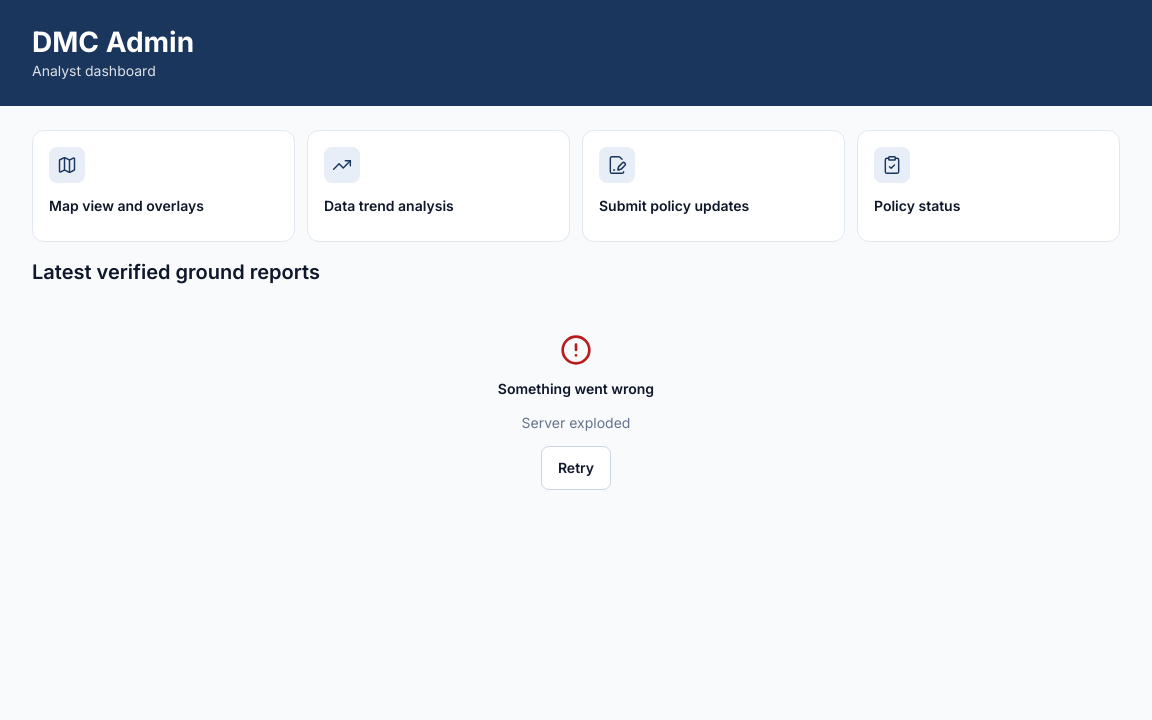
it: Analyst dashboard (hi-fi analyst-dashboard) › should show an error with a working retry
expect the message shows "Server exploded": met, box [522, 414, 630, 431]
What coordinates should you click on to do the following:
click the button "Retry"
I would click on:
 (576, 468)
Its box is [541, 446, 611, 490].
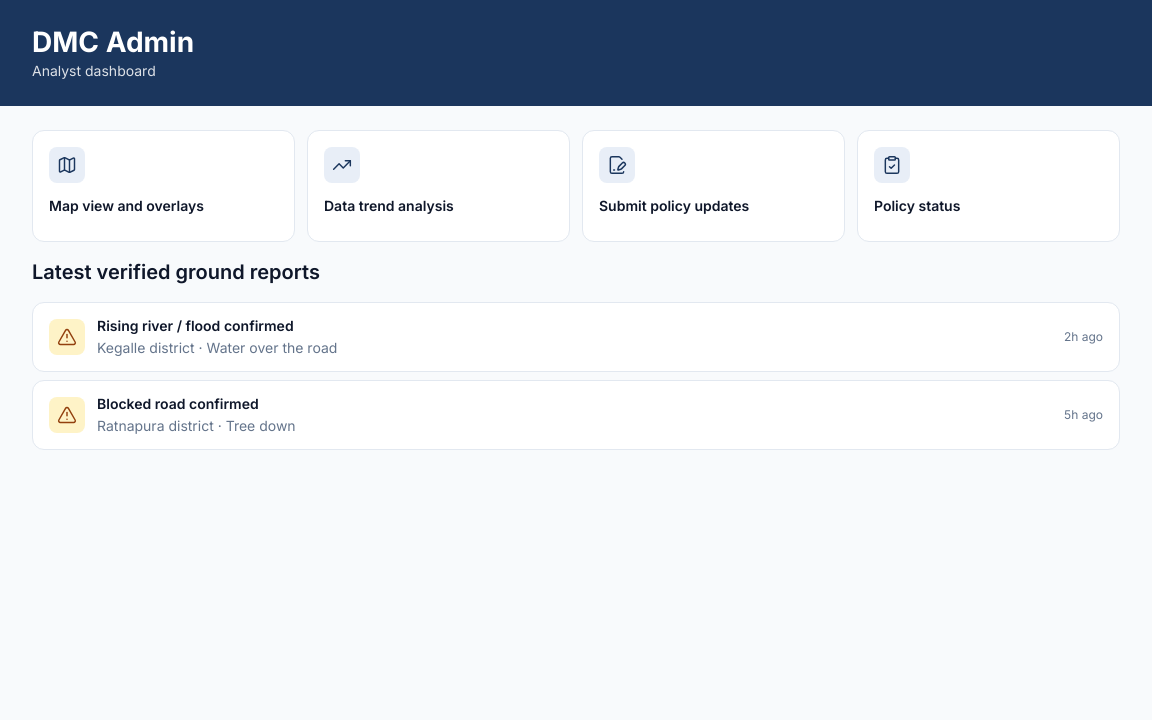
expect the text "Rising river / flood confirmed" is shown: met, box [97, 317, 294, 334]
